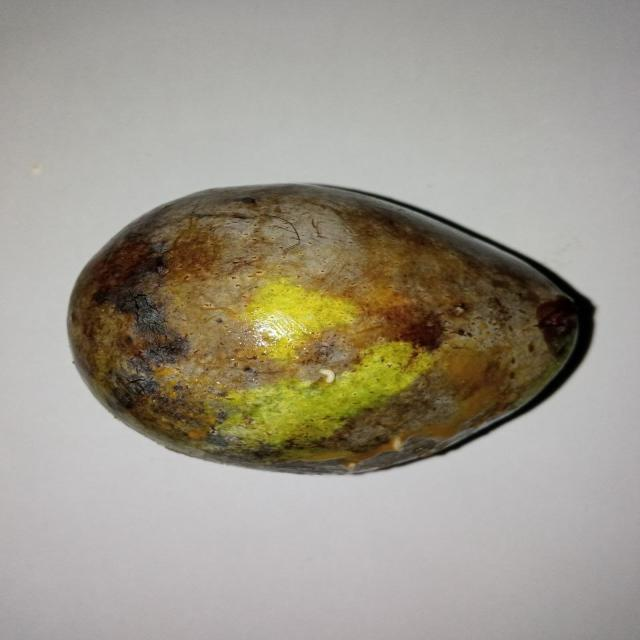rotten_mango: (65, 182, 584, 472)
